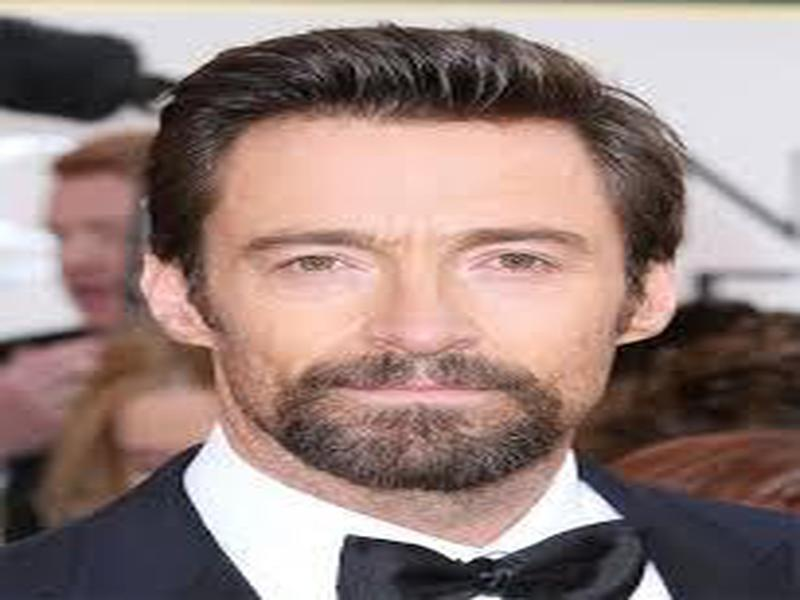without_mask: (212, 121, 608, 493)
